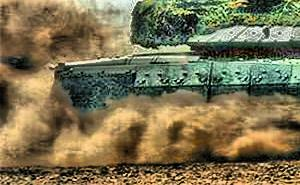tanks: (56, 1, 300, 112)
